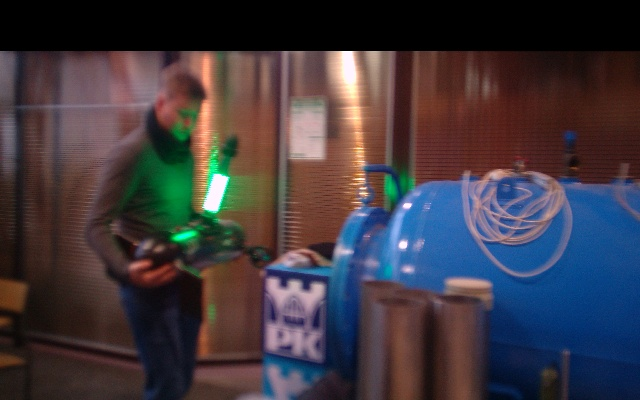green: (202, 172, 229, 214)
